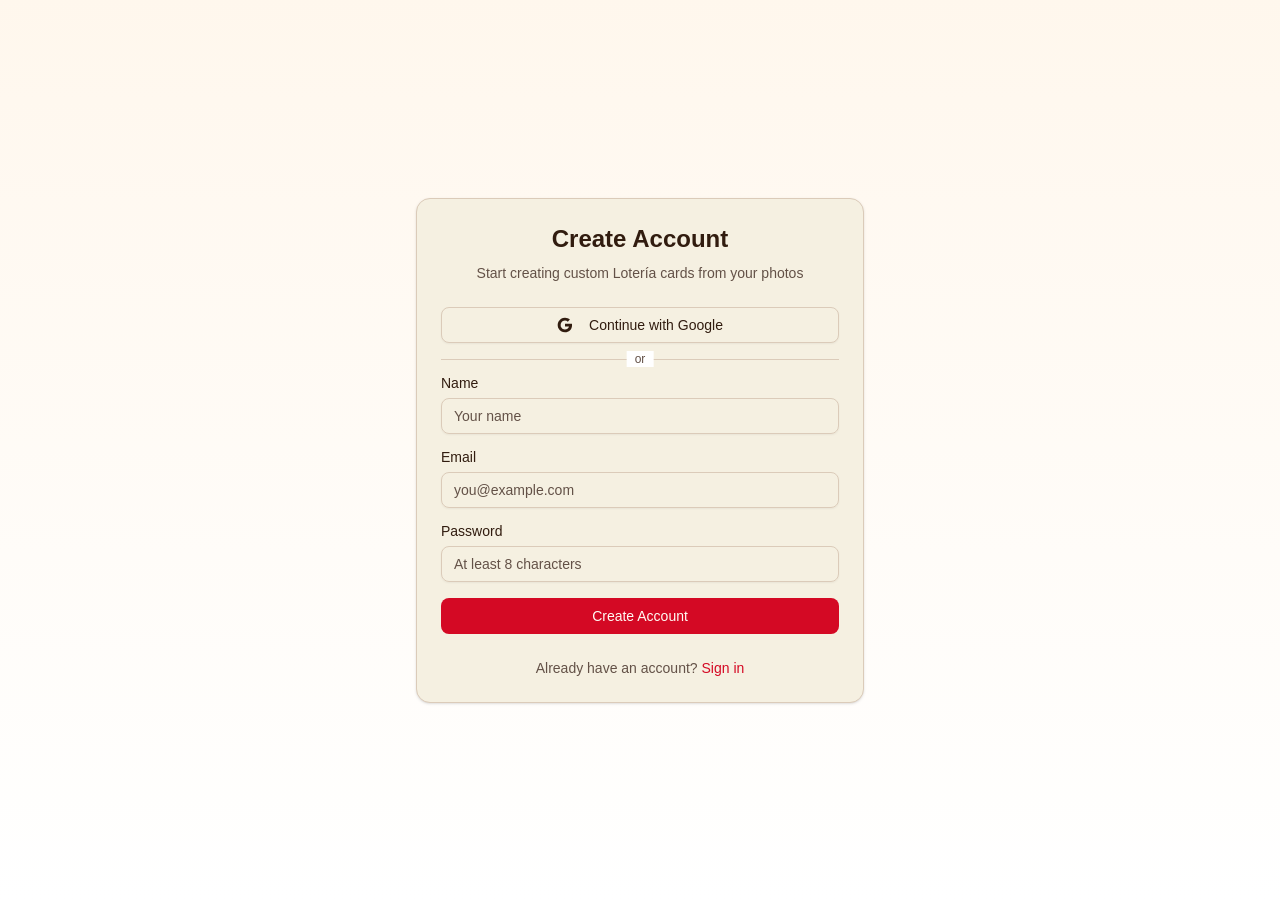
Test: sign-up page error handling › shows the rate-limit message on 429
Type "Ada" into the field labelled "Name" at (640, 416), box [441,398,839,434]
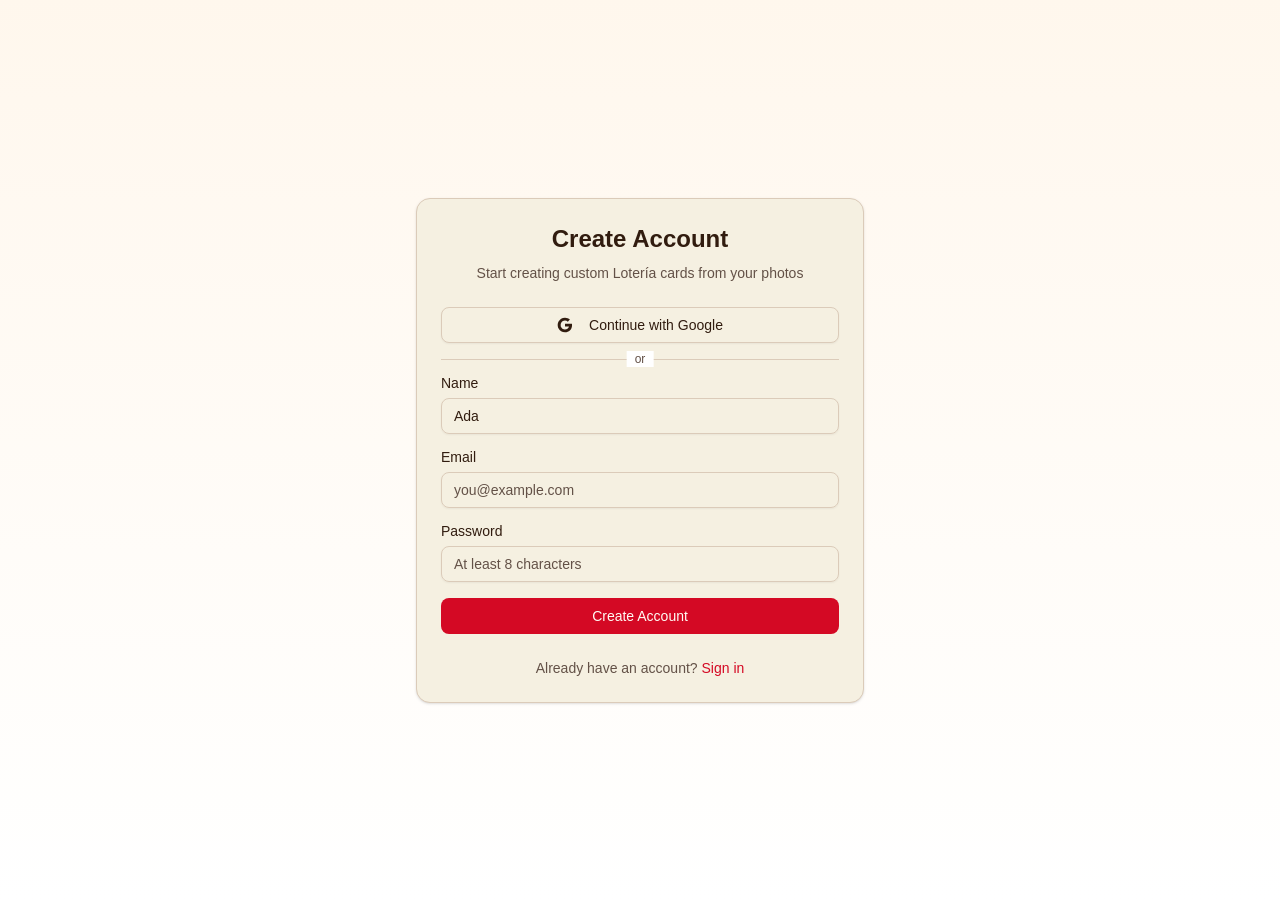
Type "taken@example.com" into the field labelled "Email" at (640, 490), box [441,472,839,508]
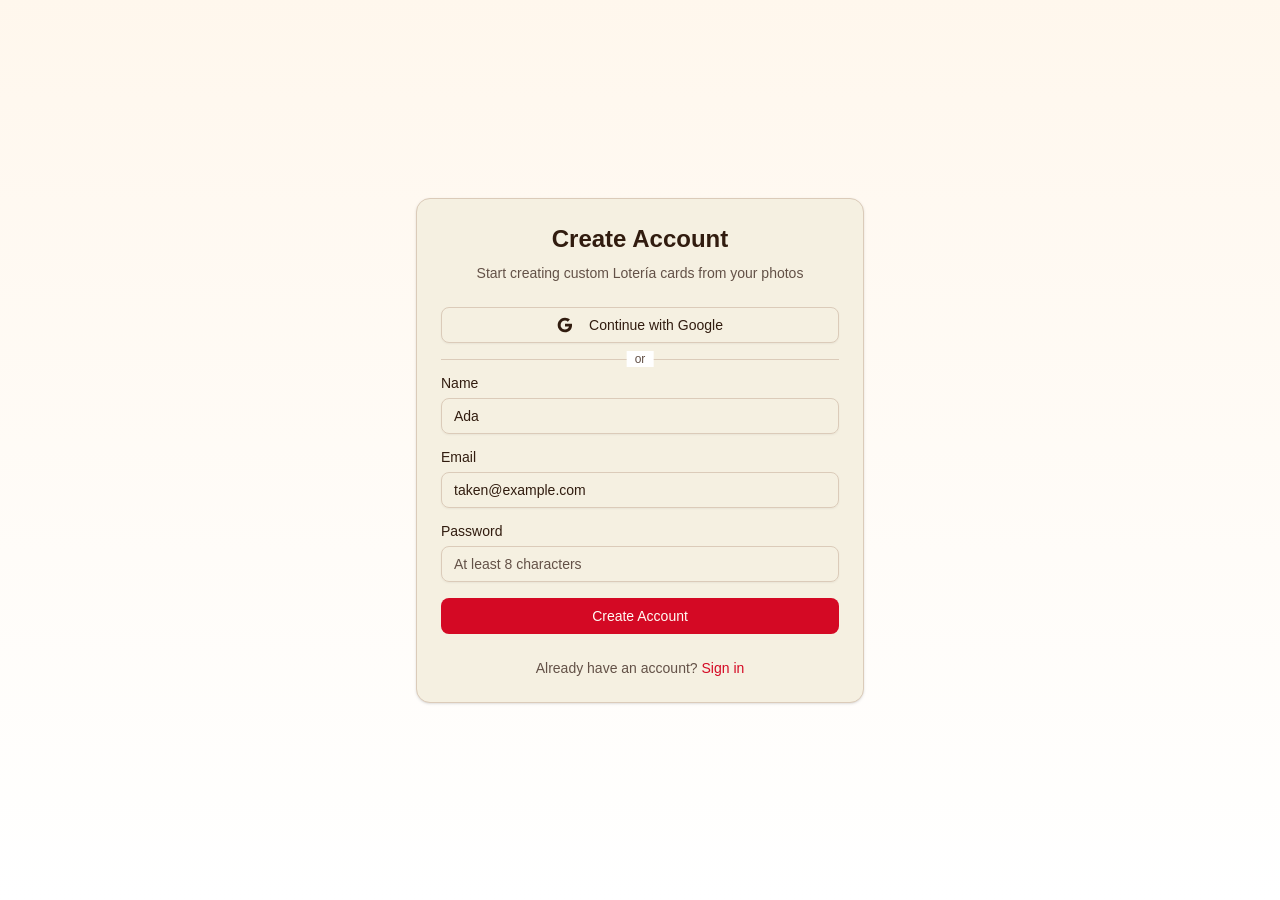
Type "TestPassword123!" into the password field labelled "Password" at (640, 564), box [441,546,839,582]
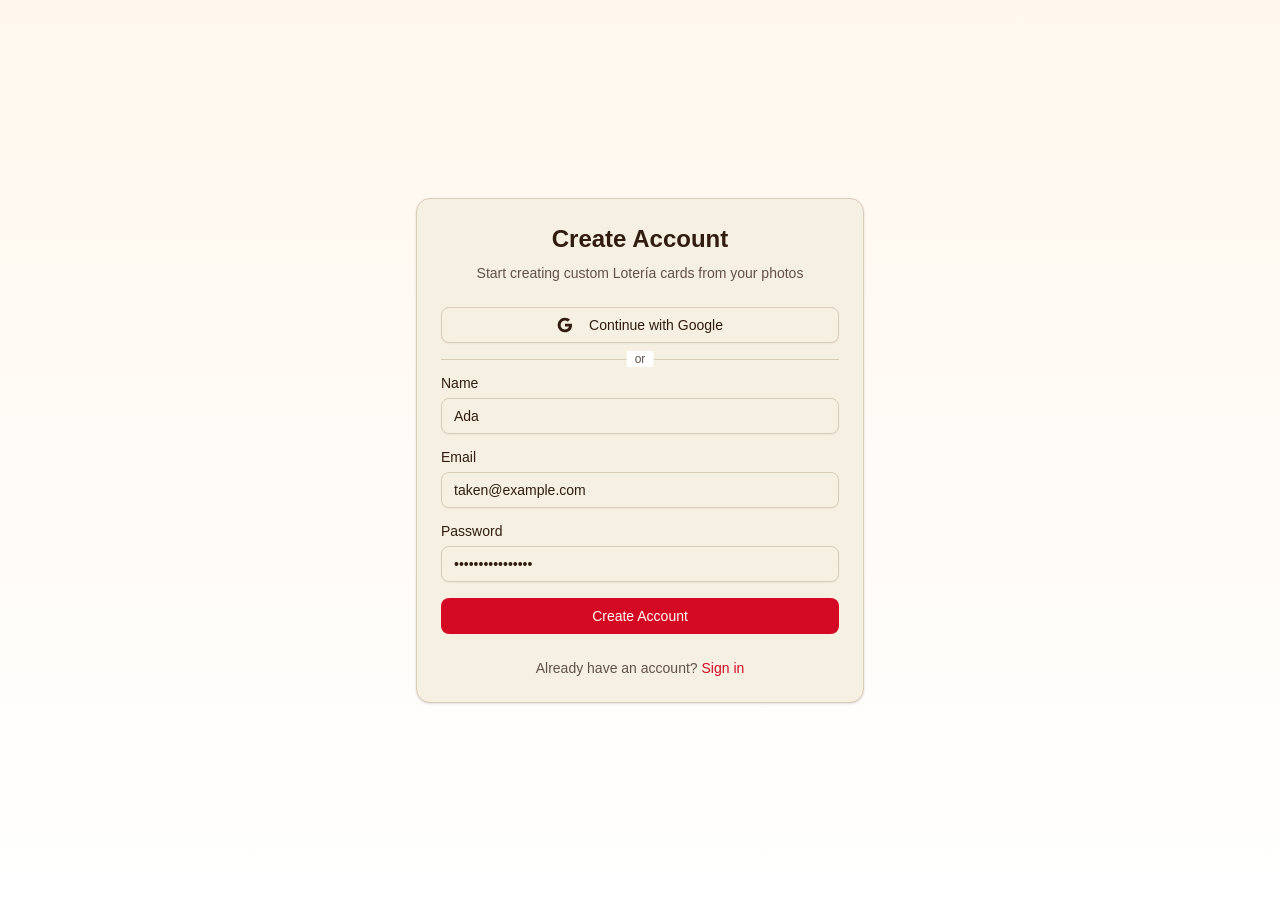
Click the button "Create Account" at (640, 616), box [441,598,839,634]
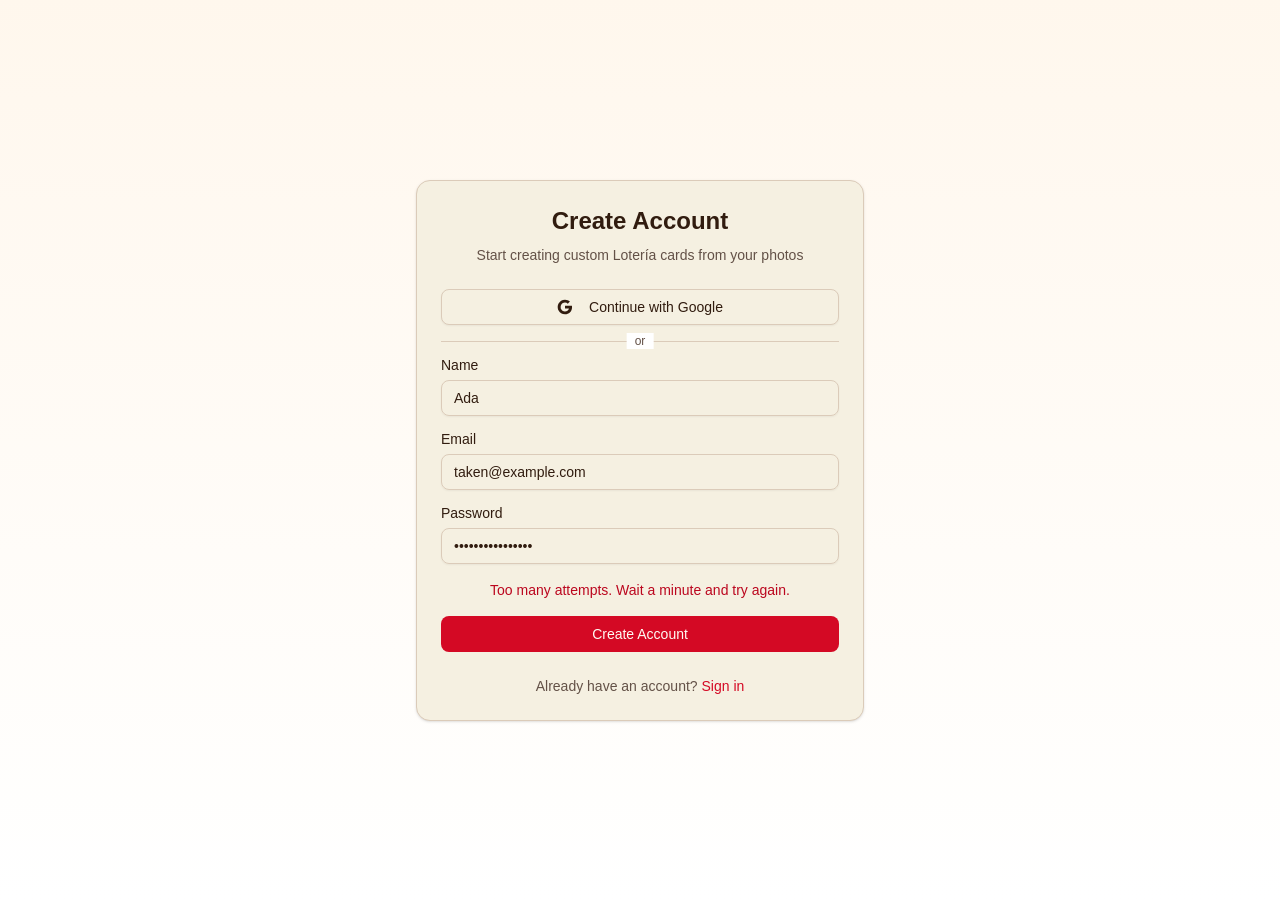
Result: the text "Too many attempts. Wait a minute and try again." is shown at [490,582,790,598]
